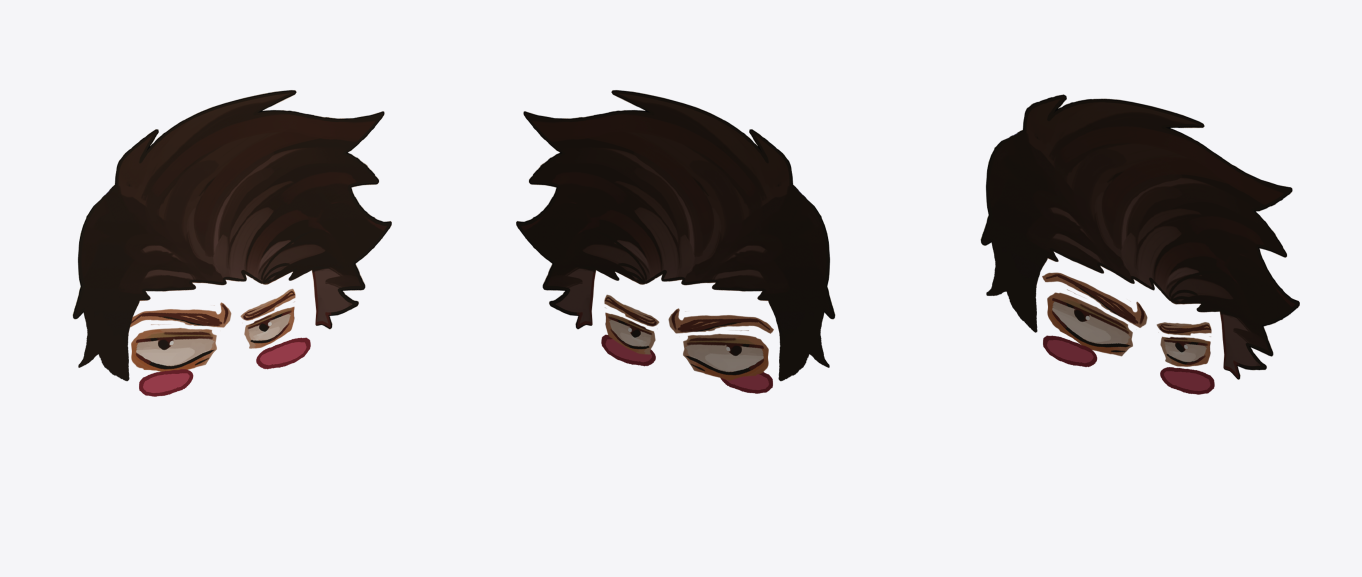
Rendered from Filter01.glb.
3 views of the same model, side by side, from view 1: azimuth 30°, elevation 25°; view 2: azimuth 150°, elevation 25°; view 3: azimuth 330°, elevation 25° (orthographic).
Parts seen in each view (by area): view 1: Model01; view 2: Model01; view 3: Model01.
Boxes of the visible parts, x1,y1,x2,y2 form: Model01: (72, 90, 391, 396); Model01: (516, 90, 835, 393); Model01: (980, 94, 1299, 394).
Size of the model in its own units: 0.2925 by 0.2925 by 0.00725.
Materials: 1 (1 with a texture image).
